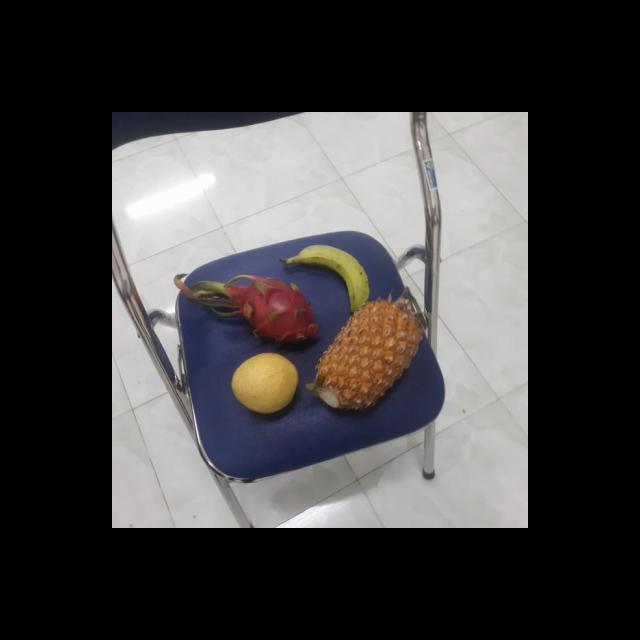banana: (288, 242, 378, 313)
pear: (230, 356, 302, 416)
pineapple: (310, 301, 424, 412)
pitaya: (220, 277, 326, 351)
